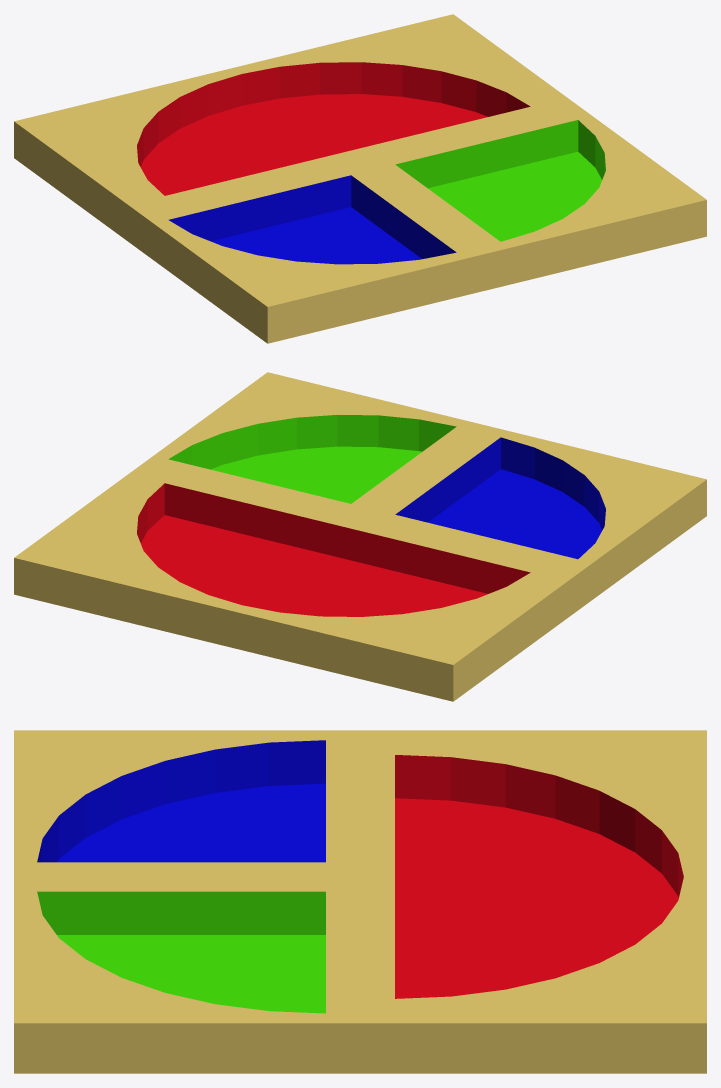
File: ButtonBase.fbx
3 renders of one model, top to bottom at view 1: azimuth 30°, elevation 25°; view 2: azimuth 150°, elevation 25°; view 3: azimuth 270°, elevation 25°, orthographic. The views are drawn at different scales.
Parts seen in each view (by area): view 1: Cube; view 2: Cube; view 3: Cube.
Part boxes in pixels (x1=…): Cube: x1=14, y1=14, x2=706, y2=343; Cube: x1=14, y1=372, x2=706, y2=701; Cube: x1=14, y1=730, x2=706, y2=1073.
Size of the model in its own units: 240 by 19.2 by 240.
